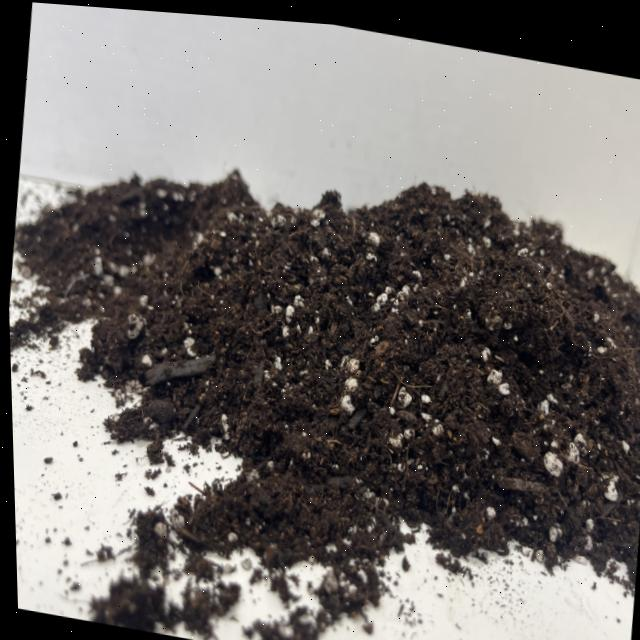soil: (3, 103, 640, 640)
